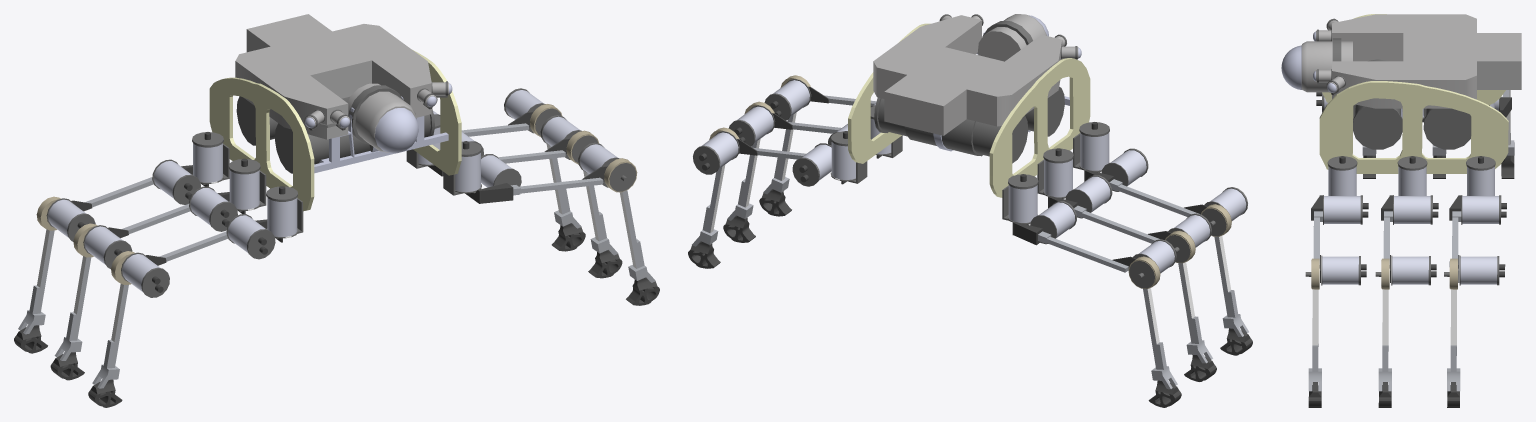
The model's file is SILVER2_Model.fbx.
The picture shows the model from 3 angles, left to right: view 1: azimuth 30°, elevation 25°; view 2: azimuth 150°, elevation 25°; view 3: azimuth 270°, elevation 25°; orthographic projection. The views are drawn at different scales.
Parts seen in each view (by area): view 1: Foam, TibiaCanister2 (×6), TibiaCanister (×6), RightChasis, CoxaCanister (×4), FemurCanister (×4), Femur (×6), Camera, LeftChasis, FrontCylinder, FrontCylinderSupport, BackCylinder (+3 smaller); view 2: Foam, TibiaCanister2 (×6), TibiaCanister (×6), RightChasis, CoxaCanister (×4), FemurCanister (×4), Femur (×5), BackCylinder, LeftChasis, Camera, FrontCylinder; view 3: Foam, LeftChasis, TibiaCanister2 (×4), TibiaCanister (×3), FemurCanister (×3), CoxaCanister (×3), Camera, FrontCylinder, BackCylinder, Femur (×3), SensorLeft, RightChasis (+1 smaller).
Part boxes in pixels (<box>): Foam: <box>235,14,431,139</box>; TibiaCanister2 (×6): <box>14,104,659,407</box>; TibiaCanister (×6): <box>46,88,619,297</box>; RightChasis: <box>209,77,314,211</box>; CoxaCanister (×4): <box>192,132,481,238</box>; FemurCanister (×4): <box>152,154,521,259</box>; Femur (×6): <box>71,112,607,265</box>; Camera: <box>347,83,418,153</box>; LeftChasis: <box>413,50,461,175</box>; FrontCylinder: <box>275,109,434,173</box>; FrontCylinderSupport: <box>314,96,448,173</box>; BackCylinder: <box>236,96,349,145</box>; Foam: <box>873,15,1062,135</box>; TibiaCanister2 (×6): <box>688,75,1252,407</box>; TibiaCanister (×6): <box>693,79,1247,273</box>; RightChasis: <box>989,58,1090,197</box>; CoxaCanister (×4): <box>830,122,1109,224</box>; FemurCanister (×4): <box>792,143,1148,244</box>; Femur (×5): <box>737,113,1207,272</box>; BackCylinder: <box>874,97,1028,163</box>; LeftChasis: <box>848,23,930,163</box>; Camera: <box>977,14,1048,61</box>; FrontCylinder: <box>1025,87,1064,136</box>; Foam: <box>1332,14,1521,108</box>; LeftChasis: <box>1319,81,1508,173</box>; TibiaCanister2 (×4): <box>1305,90,1514,407</box>; TibiaCanister (×3): <box>1321,255,1505,285</box>; FemurCanister (×3): <box>1323,195,1506,224</box>; CoxaCanister (×3): <box>1327,156,1495,195</box>; Camera: <box>1281,38,1352,92</box>; FrontCylinder: <box>1353,59,1402,149</box>; BackCylinder: <box>1423,108,1471,149</box>; Femur (×3): <box>1313,211,1461,282</box>; SensorLeft: <box>1313,69,1345,95</box>; RightChasis: <box>1322,14,1505,105</box>.
Size of the model in its own units: 9.46 by 4.53 by 3.94.
